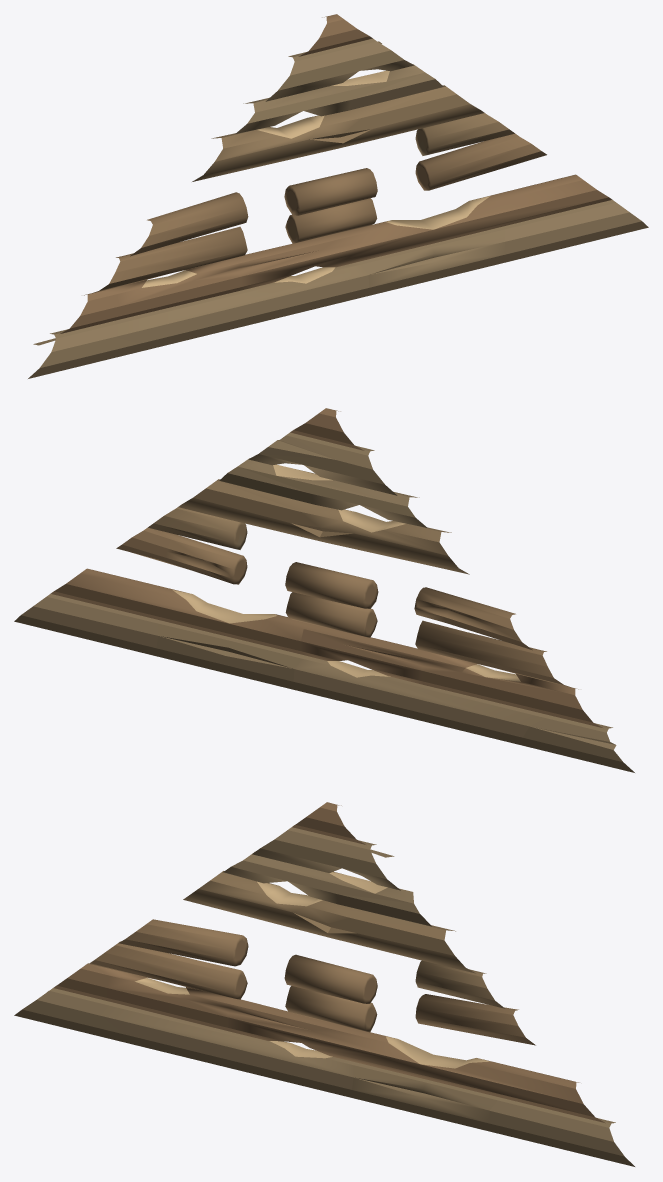
Rendered from rpgpp_av_roof_end_01_9x4_wall_window_03c.gltf.
The picture shows the model from 3 angles, top to bottom: view 1: azimuth 30°, elevation 25°; view 2: azimuth 150°, elevation 25°; view 3: azimuth 330°, elevation 25°; orthographic projection.
Visible parts, largest first — view 1: rpgpp_av_roof_end_01_9x4_wall_window_03c; view 2: rpgpp_av_roof_end_01_9x4_wall_window_03c; view 3: rpgpp_av_roof_end_01_9x4_wall_window_03c.
Boxes of the visible parts, x1,y1,x2,y2 form: rpgpp_av_roof_end_01_9x4_wall_window_03c: (28,14,648,378); rpgpp_av_roof_end_01_9x4_wall_window_03c: (14,408,634,772); rpgpp_av_roof_end_01_9x4_wall_window_03c: (14,802,634,1166).
Size of the model in its own units: 0.0967 by 0.0424 by 0.00463.
1 material, 1 textured.
